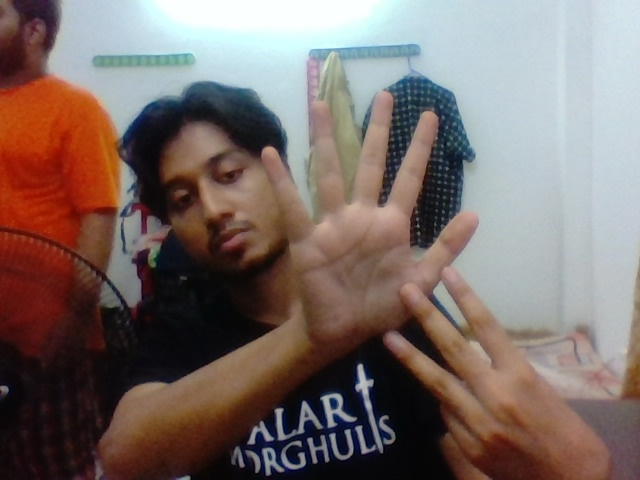M: (256, 83, 524, 430)
